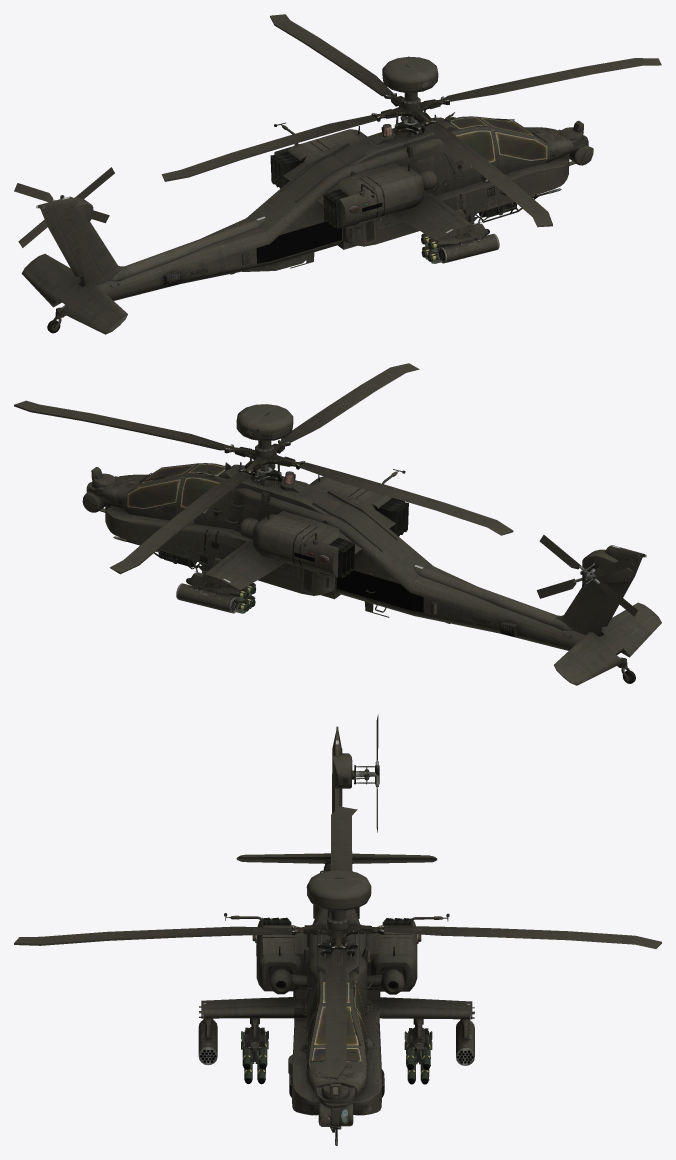
File: apache.glb
3 renders of one model, top to bottom at view 1: azimuth 30°, elevation 25°; view 2: azimuth 150°, elevation 25°; view 3: azimuth 270°, elevation 25°, orthographic. The views are drawn at different scales.
Parts seen in each view (by area): view 1: Object_8, sx_rotor, Object_7, Object_3, Object_2, sx_tail; view 2: Object_8, sx_rotor, Object_7, Object_3, Object_2, sx_tail; view 3: Object_8, sx_rotor, Object_7, Object_3, Object_6.
Part boxes in pixels (x1,y1,x2,y2): Object_8: (21, 112, 593, 334); sx_rotor: (161, 14, 661, 227); Object_7: (382, 56, 499, 263); Object_3: (349, 117, 547, 213); Object_2: (256, 222, 341, 263); sx_tail: (14, 167, 114, 247); Object_8: (82, 462, 661, 685); sx_rotor: (14, 363, 513, 574); Object_7: (176, 404, 293, 613); Object_3: (127, 464, 328, 562); Object_2: (337, 570, 423, 612); sx_tail: (536, 535, 637, 616); Object_8: (199, 726, 474, 1127); sx_rotor: (14, 806, 661, 1079); Object_7: (198, 870, 474, 1073); Object_3: (252, 934, 421, 1074); Object_6: (241, 1031, 432, 1081).
Bounding box in the file's own units: 2.5 × 0.6831 × 1.96.
Materials: 5 (4 with a texture image).
